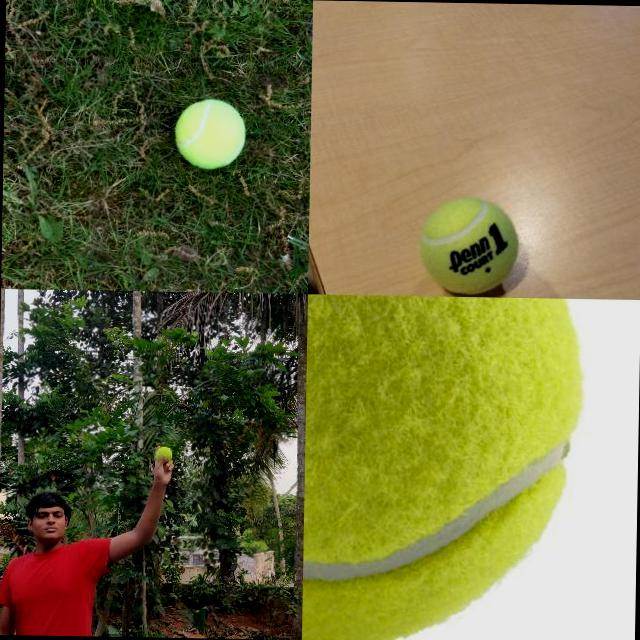tennis-ball: (301, 293, 584, 640), (418, 194, 520, 296), (172, 98, 246, 170), (156, 446, 172, 464)
